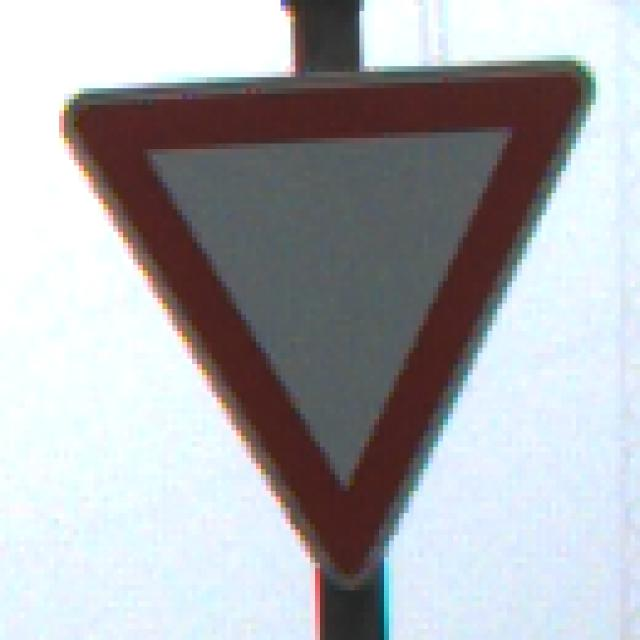Give Way: (55, 56, 587, 586)
